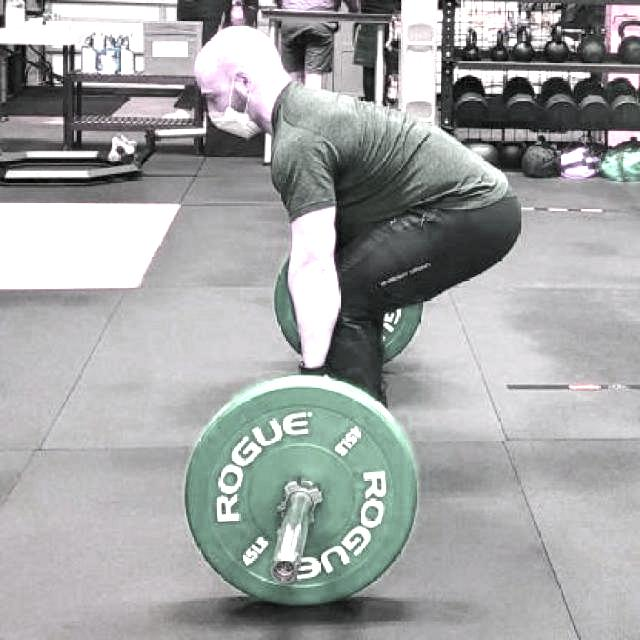barbell: (161, 370, 432, 625)
